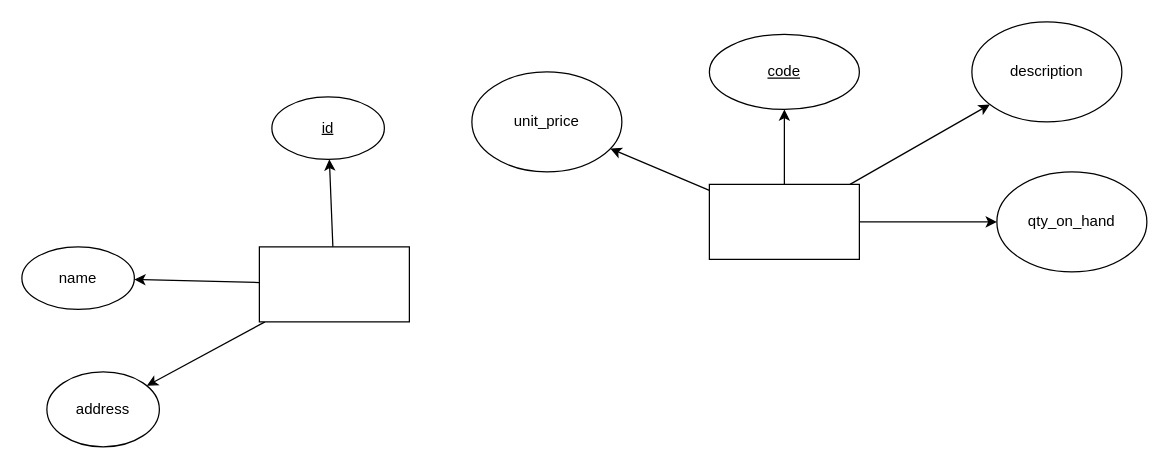
Image size: 1169x469. Some labels were removed from this diagram. The box of each missing label's shape, as (x1, y1, x2, y2) in pixels:
customer: (258, 246, 409, 322)
item: (708, 183, 859, 259)
